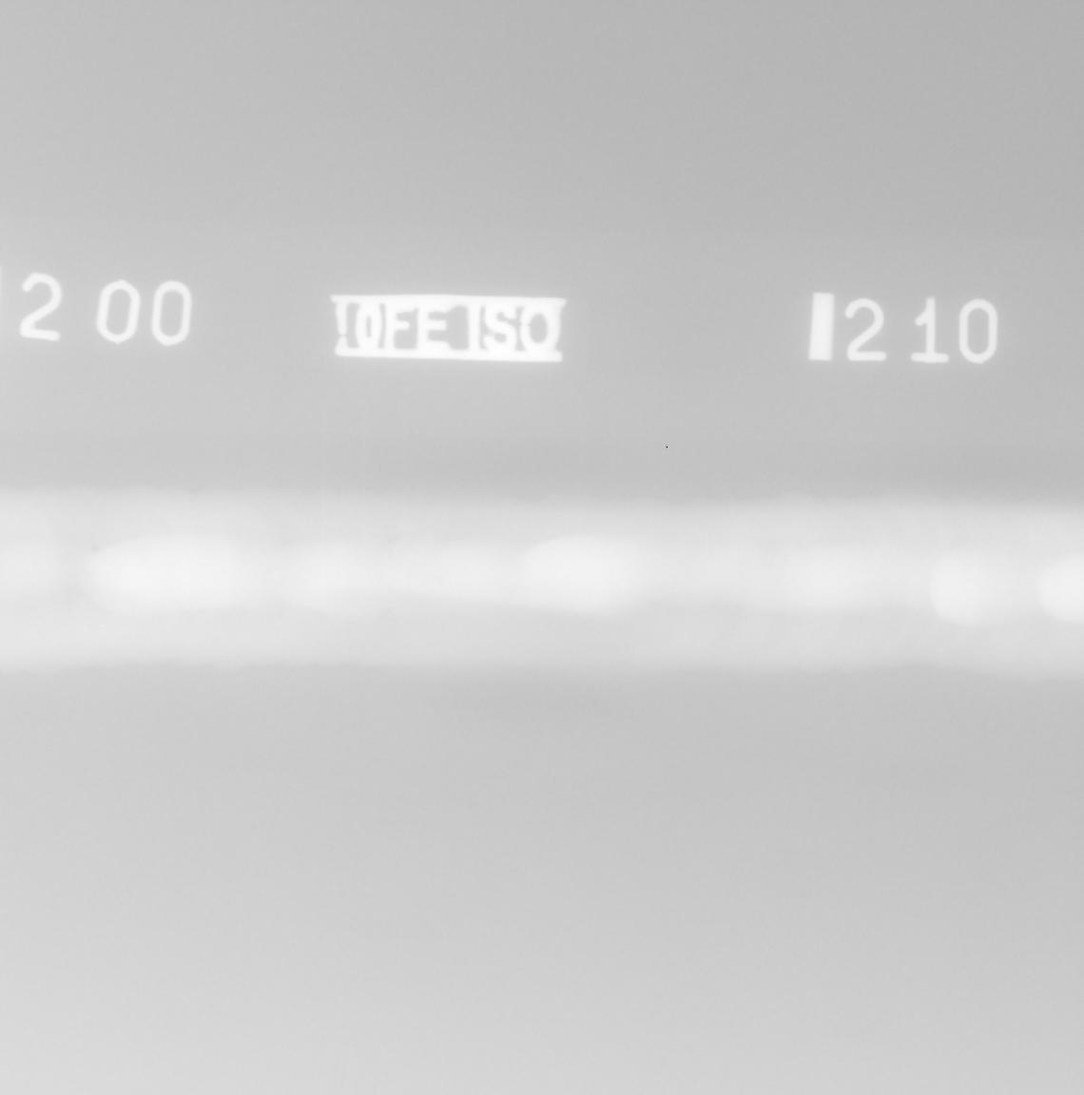Inclusion: (350, 591, 360, 602), (434, 575, 443, 583), (386, 584, 392, 591)
Pore/Porosity: (388, 537, 396, 543), (93, 546, 98, 552)
